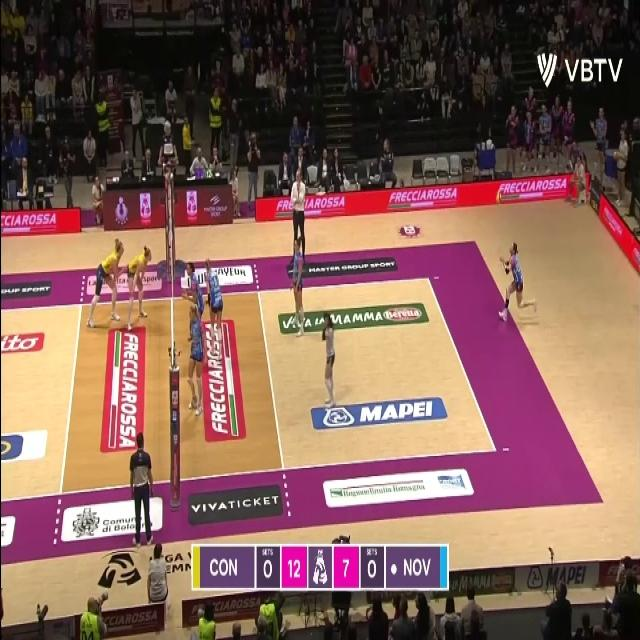volleyball court: (1, 276, 497, 498)
